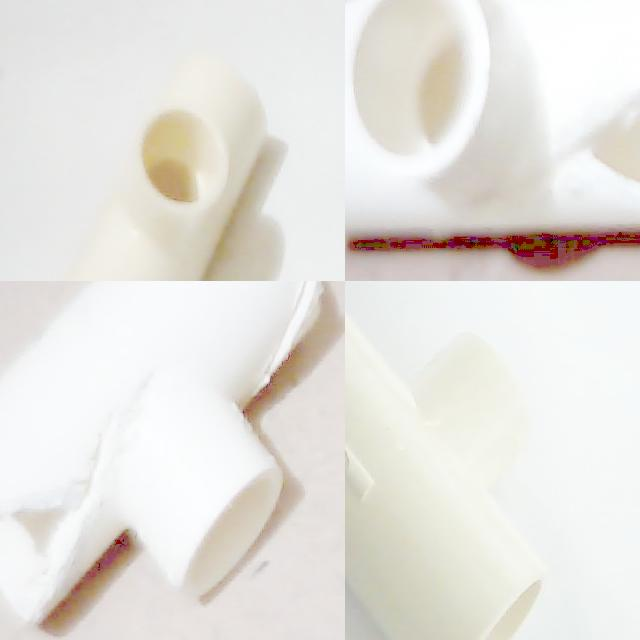Defective: (0, 369, 144, 621), (236, 281, 317, 417), (580, 91, 640, 183)
T Joint: (0, 281, 323, 623), (345, 309, 550, 640), (64, 53, 267, 281)
